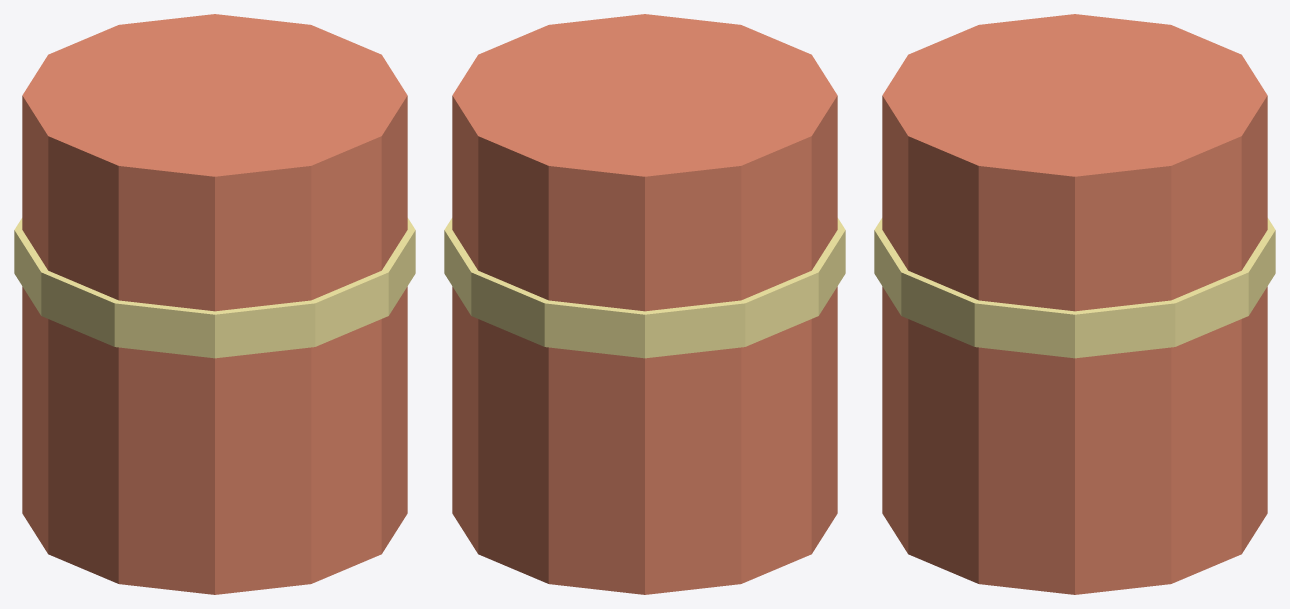
Rendered from barrel.glb.
3 views of the same model, side by side, from view 1: azimuth 30°, elevation 25°; view 2: azimuth 150°, elevation 25°; view 3: azimuth 270°, elevation 25° (orthographic).
Parts seen in each view (by area): view 1: barrel, band; view 2: barrel, band; view 3: barrel, band.
Part boxes in pixels (x1=…): barrel: x1=22, y1=14, x2=407, y2=594; band: x1=14, y1=218, x2=415, y2=358; barrel: x1=452, y1=14, x2=837, y2=594; band: x1=444, y1=218, x2=845, y2=358; barrel: x1=882, y1=14, x2=1267, y2=594; band: x1=874, y1=218, x2=1275, y2=358.
Size of the model in its own units: 1 by 1.15 by 1.
